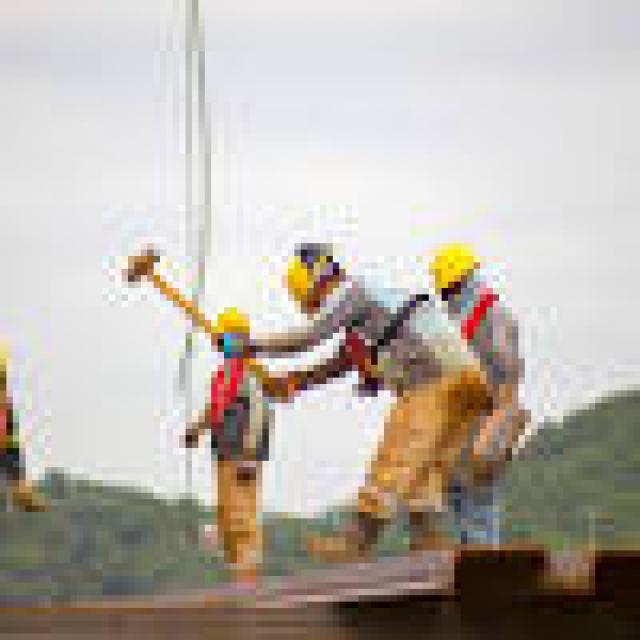Safety-Helmet: (102, 205, 173, 275), (416, 237, 486, 301), (275, 250, 339, 314), (205, 294, 262, 352)
